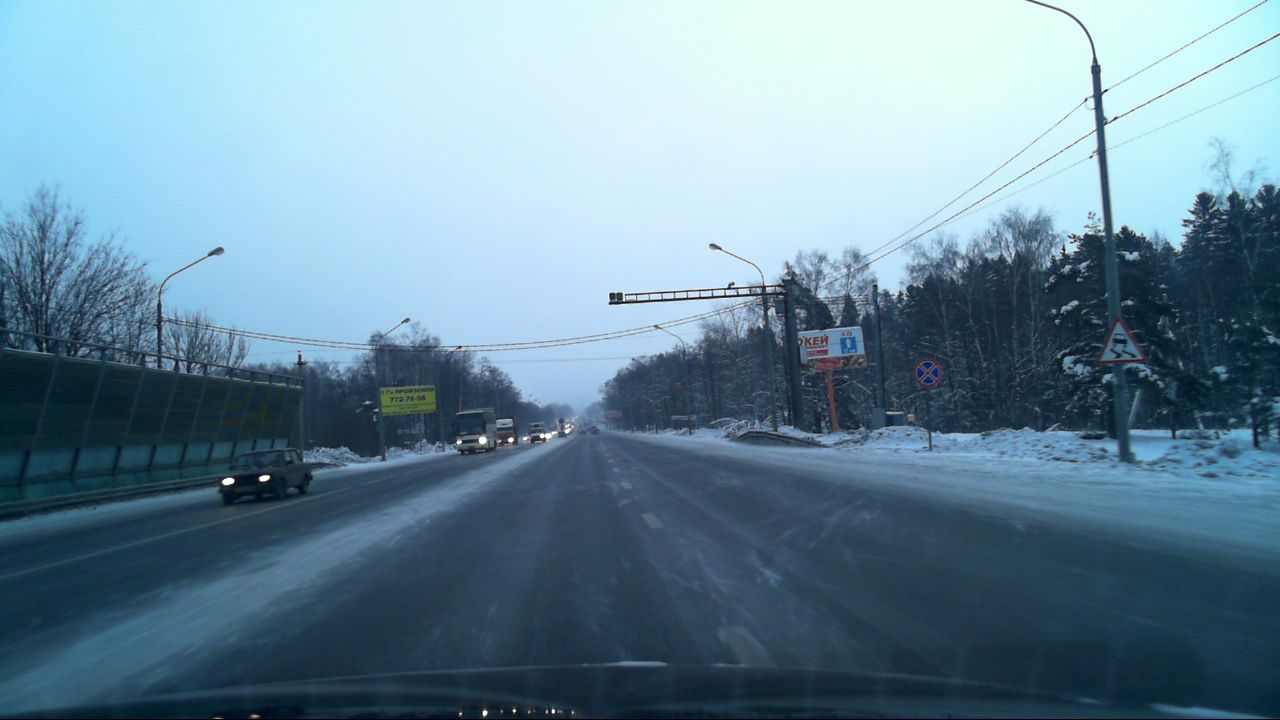No Parking: (913, 358, 941, 388)
